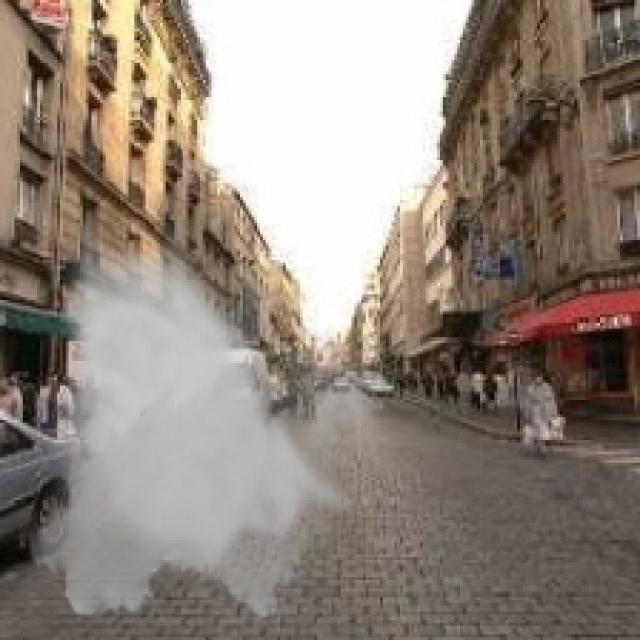Smoke: (17, 222, 394, 628)
